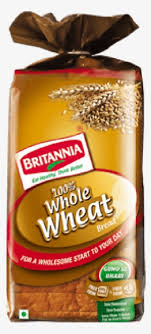bread: (7, 16, 151, 327)
